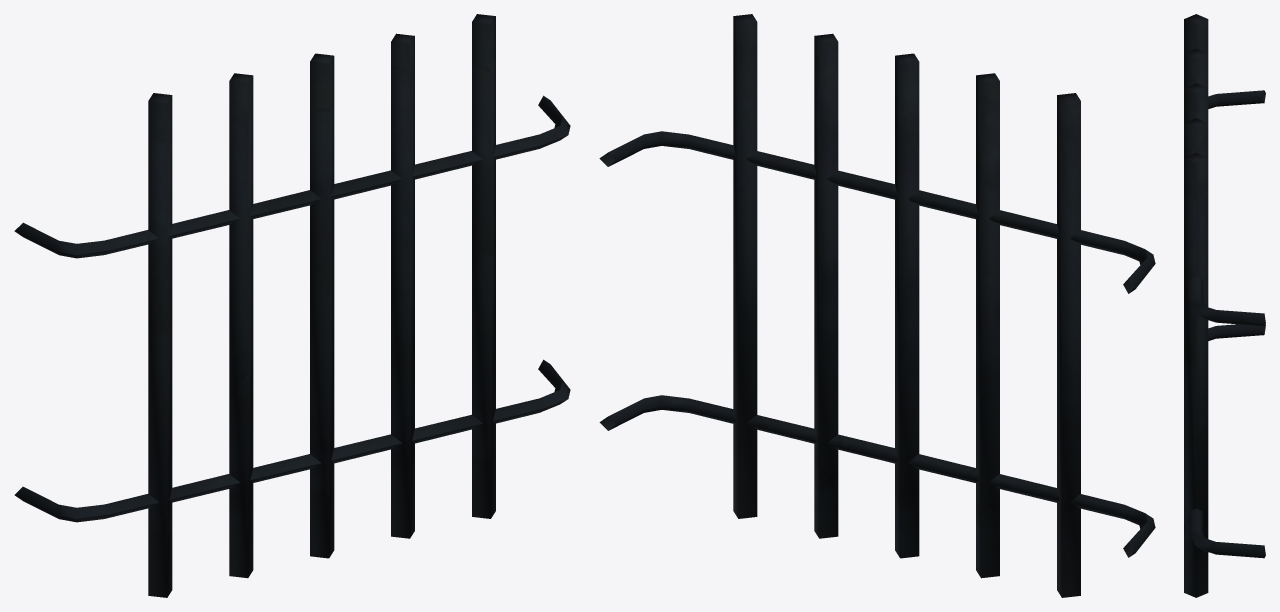
File: Lattice 2.fbx
The picture shows the model from 3 angles, left to right: view 1: azimuth 30°, elevation 25°; view 2: azimuth 150°, elevation 25°; view 3: azimuth 270°, elevation 25°; orthographic projection. The views are drawn at different scales.
Visible parts, largest first — view 1: Lattice 2; view 2: Lattice 2; view 3: Lattice 2.
Part boxes in pixels (x1,y1,x2,y2): Lattice 2: (14,14,570,597); Lattice 2: (599,14,1155,597); Lattice 2: (1184,14,1265,597).
Size of the model in its own units: 66.28 by 58.45 by 9.98.
